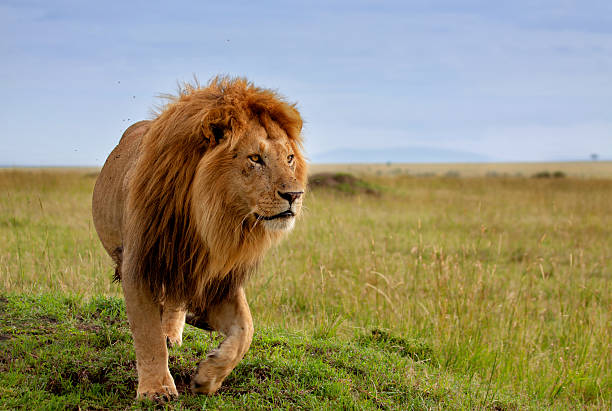lion: (117, 63, 347, 332)
